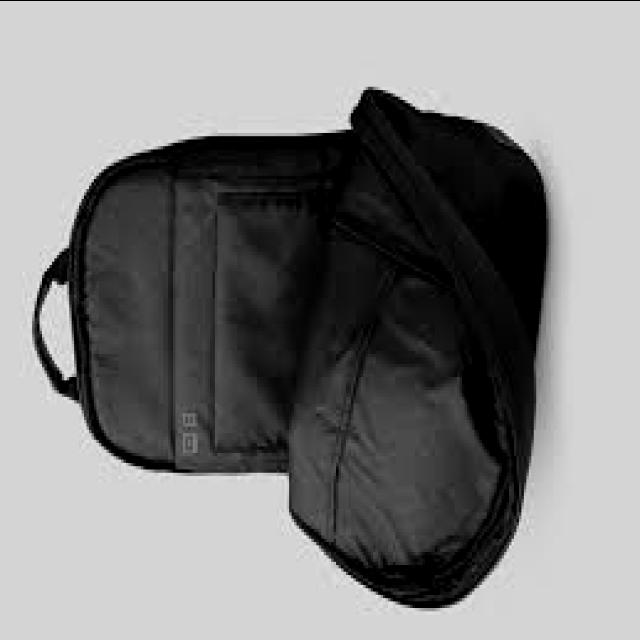backpack: (31, 90, 547, 611)
